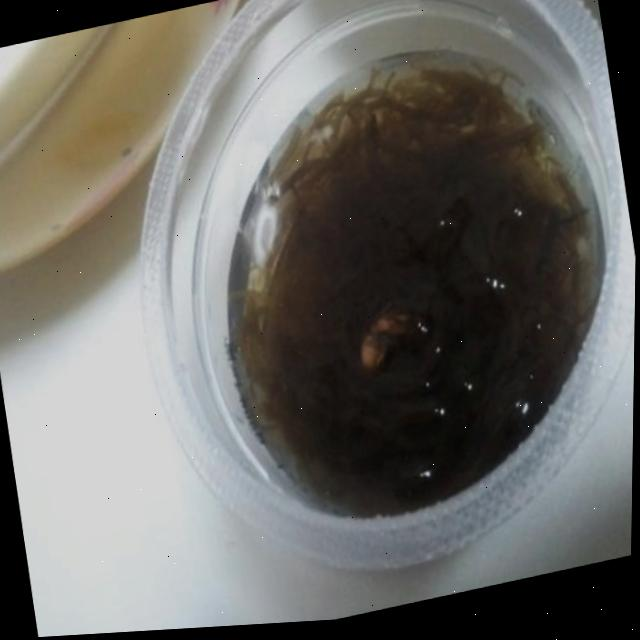蔬菜料理: (198, 32, 627, 518)
